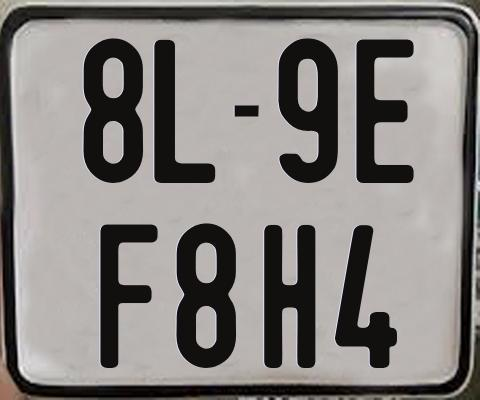4: (334, 222, 401, 366)
8: (174, 221, 238, 369), (82, 37, 143, 183)
9: (277, 38, 343, 183)
E: (354, 37, 416, 186)
F: (99, 223, 163, 370)
H: (262, 225, 320, 374)
L: (153, 38, 218, 187)
